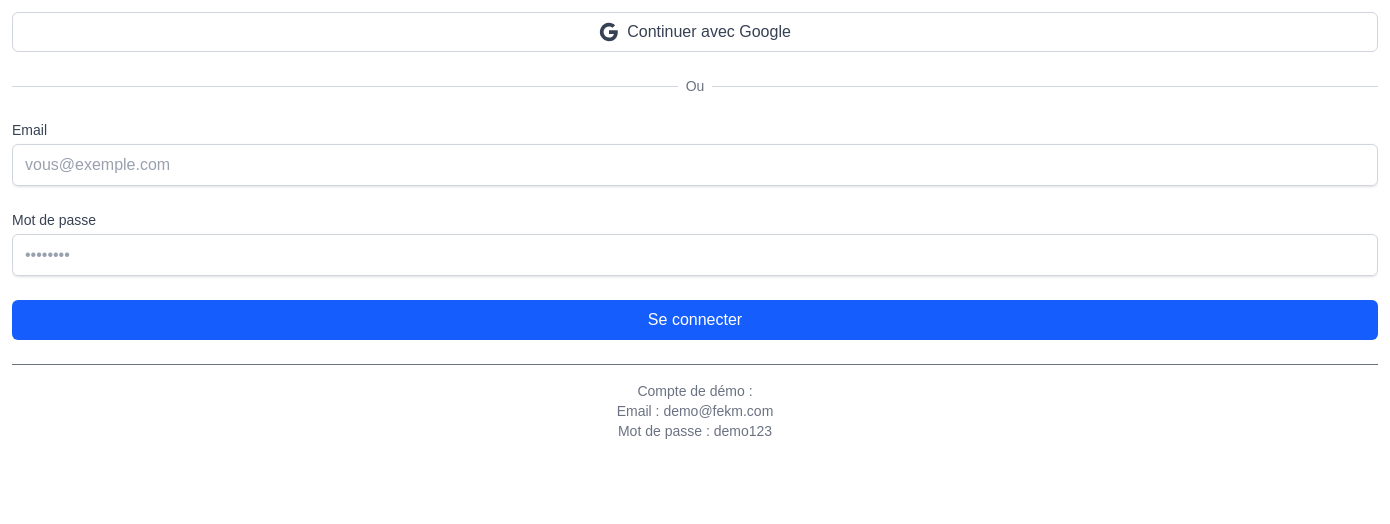
LoginForm Component › should show error message on failed login
Type "test@example.com" into the field labelled "Email" at (695, 165), box top-left (12, 144), bottom-right (1378, 186)
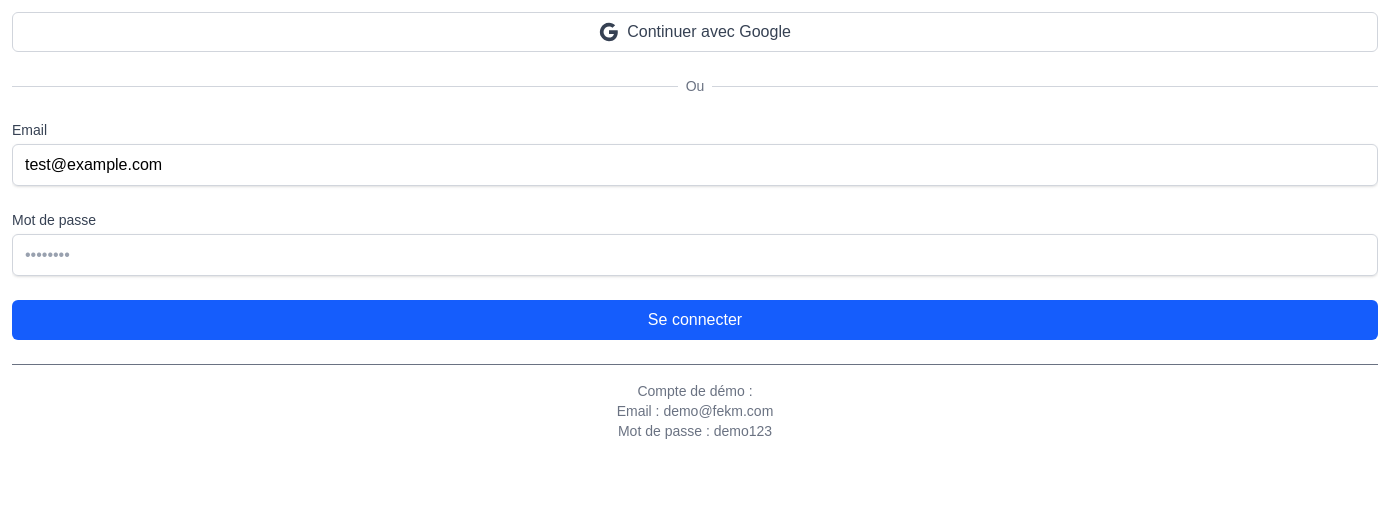
Type "wrongpassword" into the password field labelled "Mot de passe" at (695, 255), box top-left (12, 234), bottom-right (1378, 276)
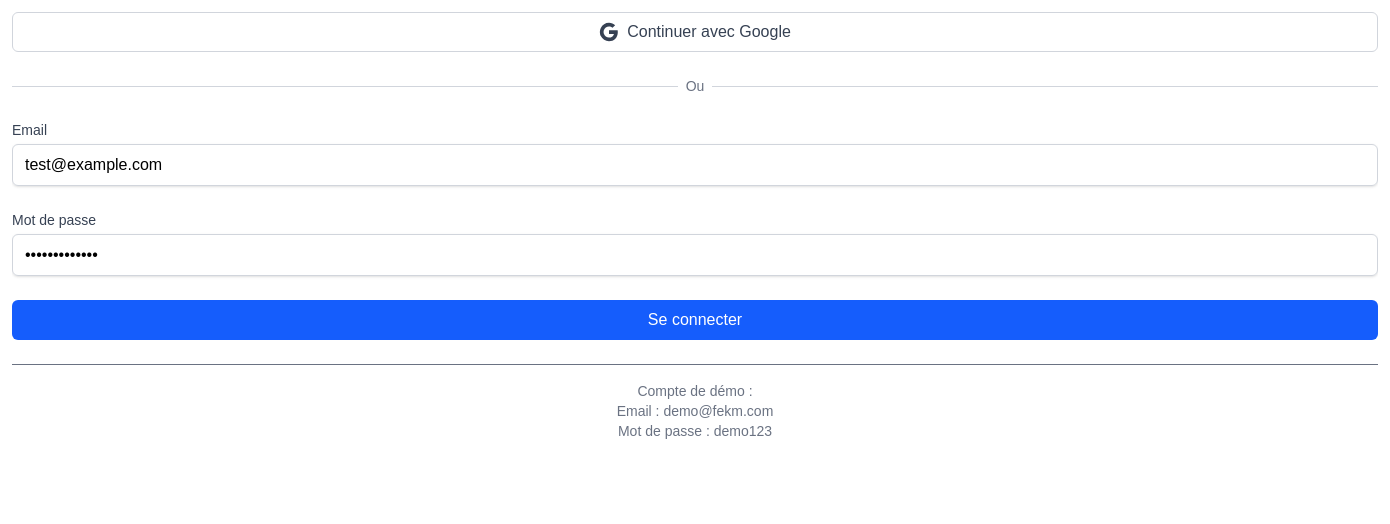
Click the button "Se connecter" at (695, 320), box top-left (12, 300), bottom-right (1378, 340)
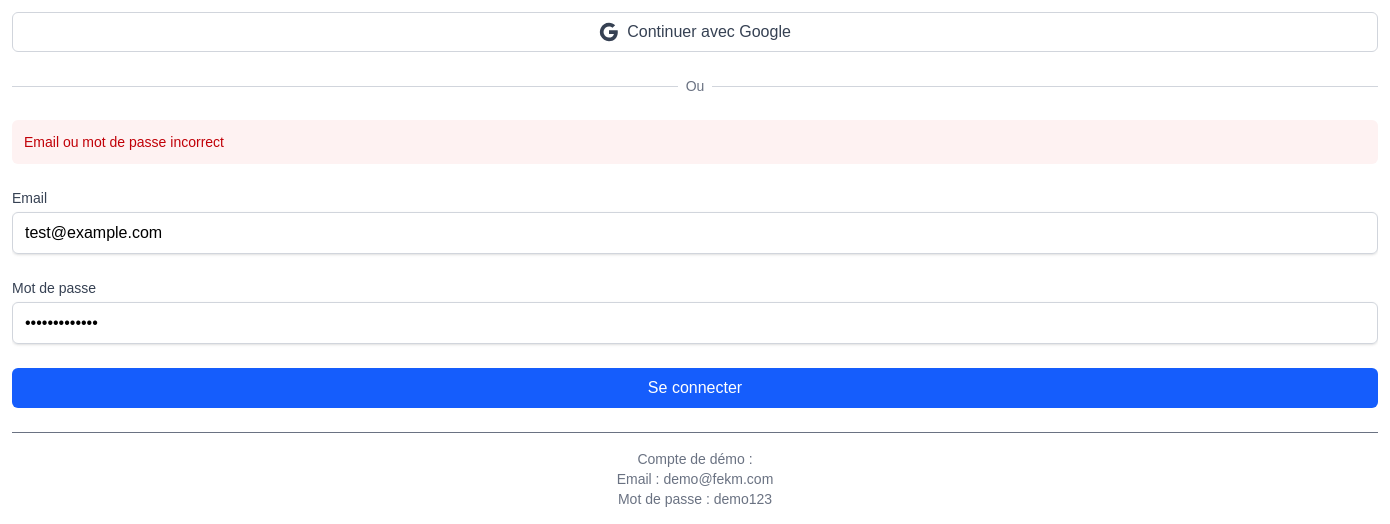
Now the text "Email ou mot de passe incorrect" is shown, box top-left (12, 120), bottom-right (1378, 164)
